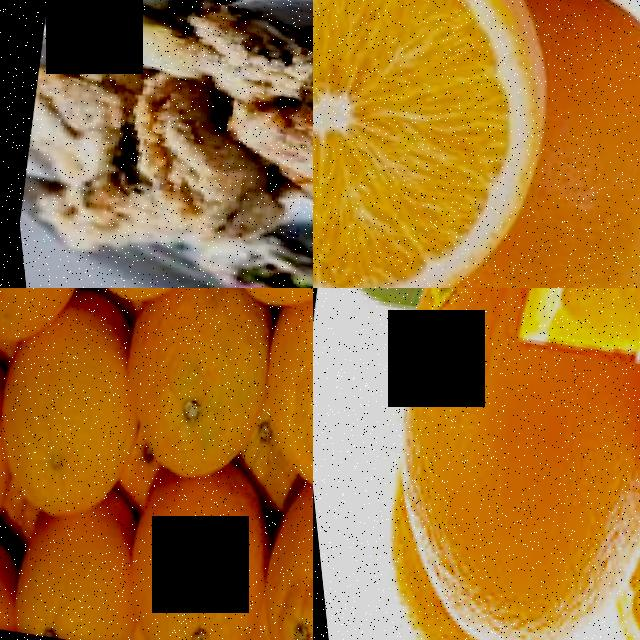orange: (343, 313, 640, 640), (313, 0, 586, 288), (457, 0, 640, 288), (104, 288, 282, 501), (92, 458, 281, 640), (0, 326, 139, 536), (0, 507, 134, 640), (231, 298, 313, 513), (225, 479, 313, 640)
